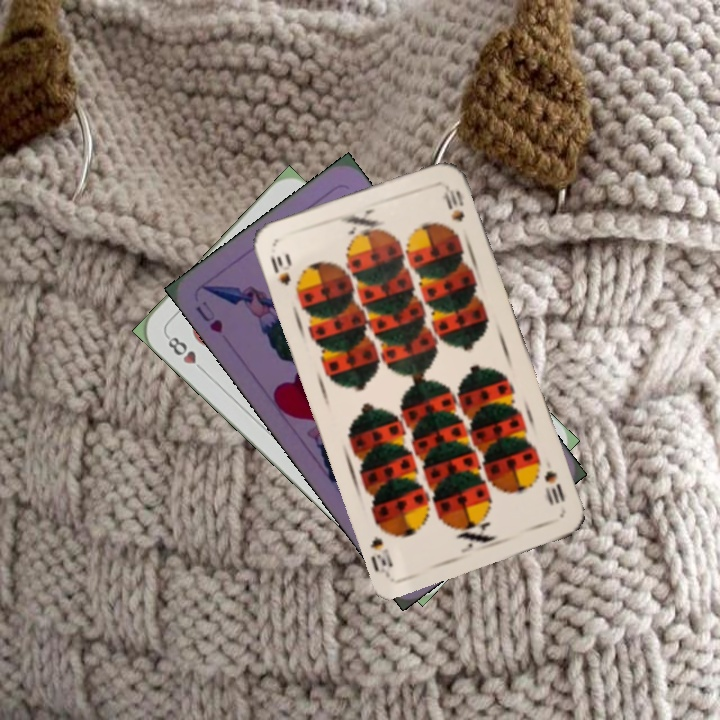H8: (162, 331, 209, 376)
HU: (191, 297, 226, 336)
S10: (540, 466, 568, 508), (266, 251, 293, 288)
